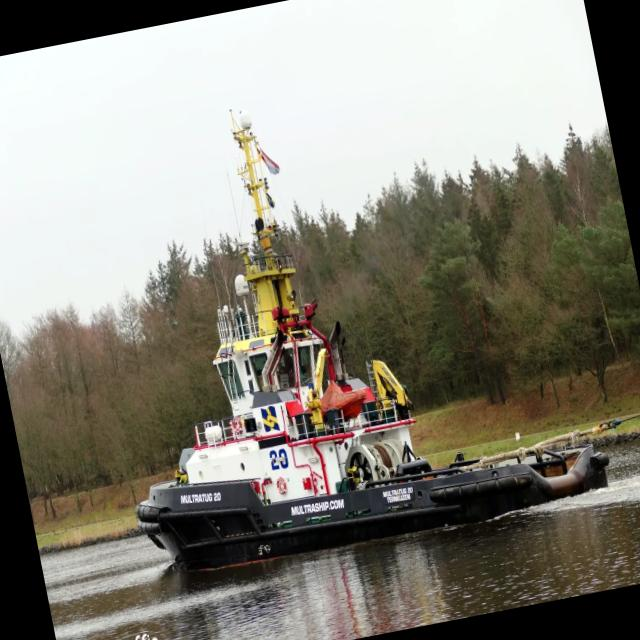Tug: (136, 121, 608, 568)
